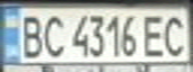1: (103, 11, 124, 57)
3: (87, 11, 106, 58)
4: (66, 11, 90, 57)
6: (118, 11, 142, 57)
B: (15, 10, 45, 58)
C: (160, 11, 193, 57), (39, 11, 69, 58)
E: (139, 11, 169, 58)
